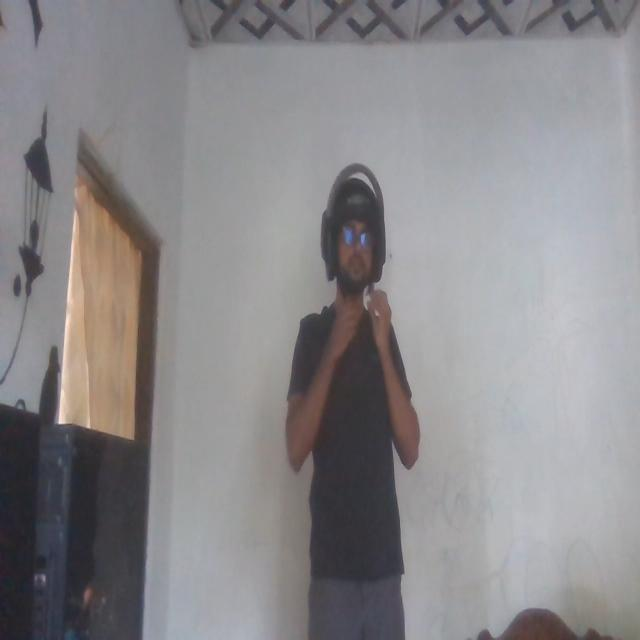Helmet_Wearer: (315, 154, 389, 314)
Person: (289, 144, 423, 640)
